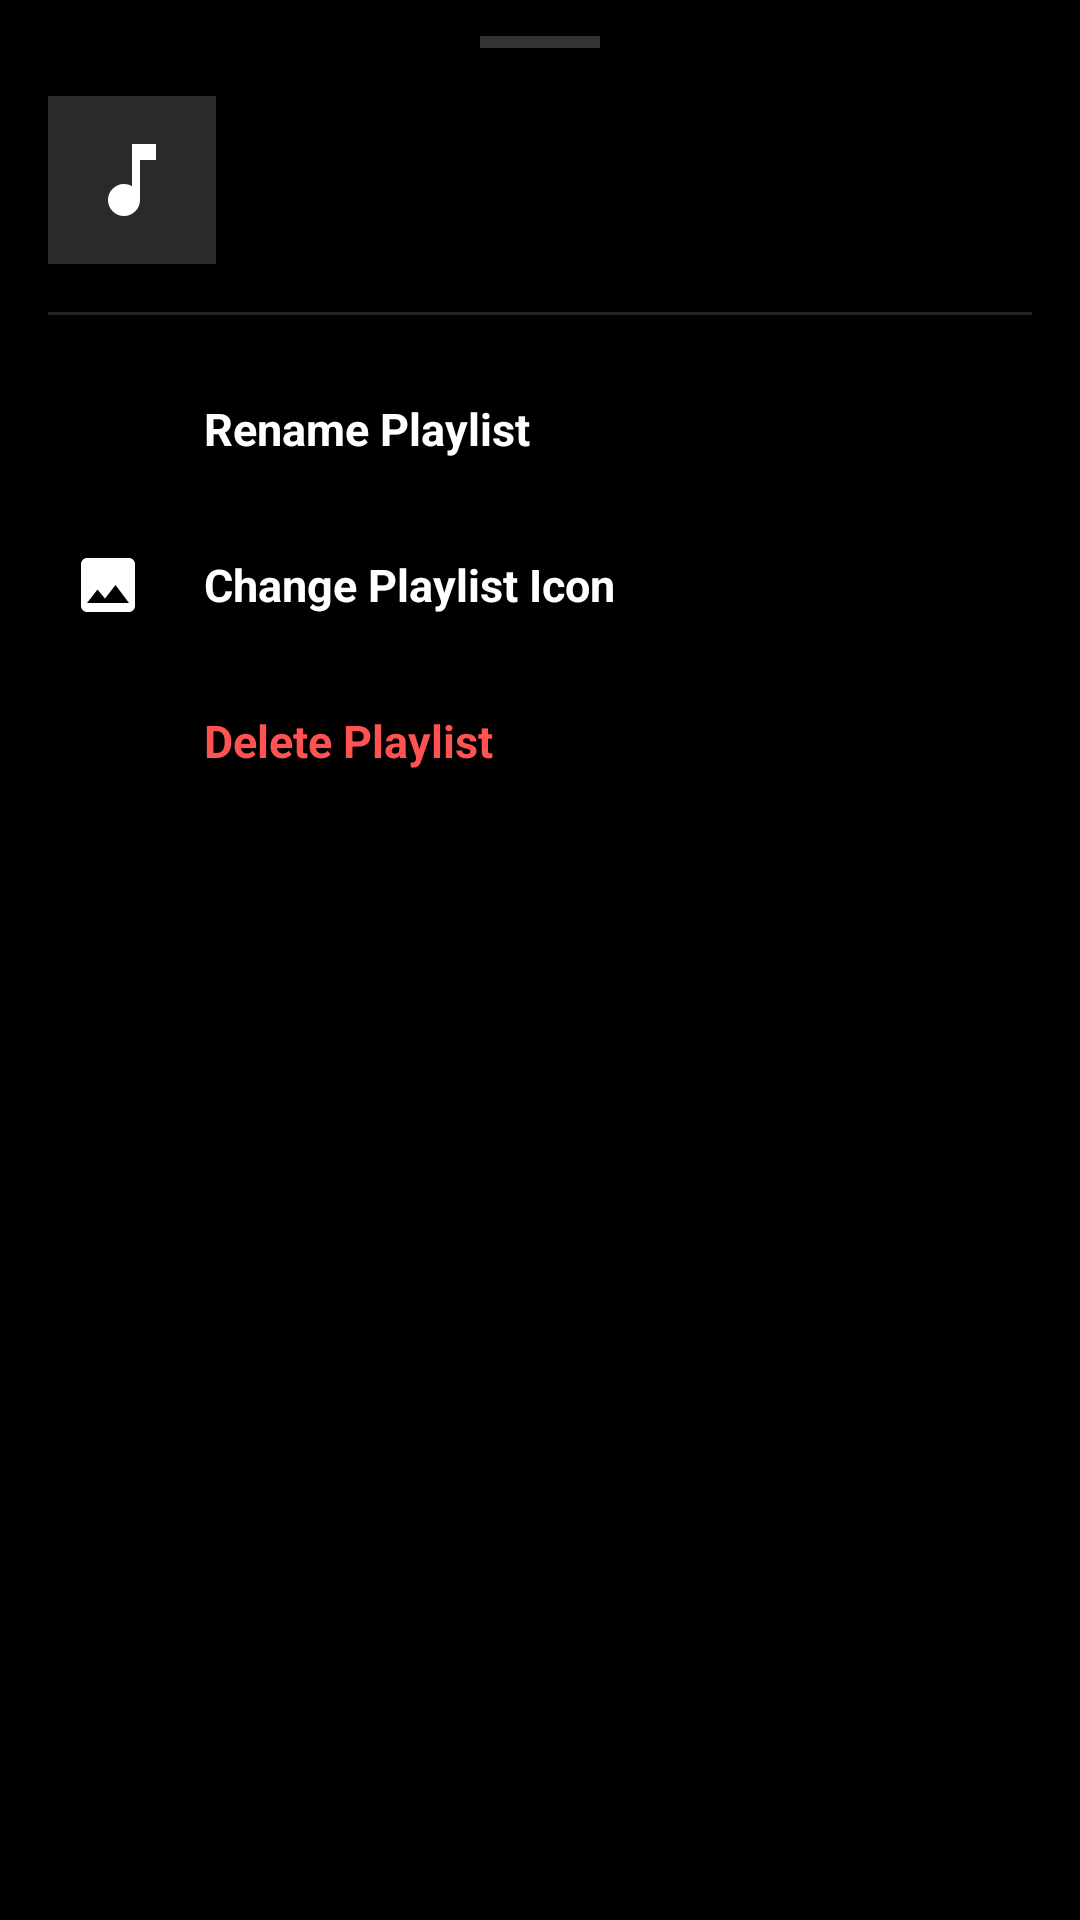

Icon click points for this 1080px x 1920px phone screenshot, format (x,y):
music note: (132,180)
